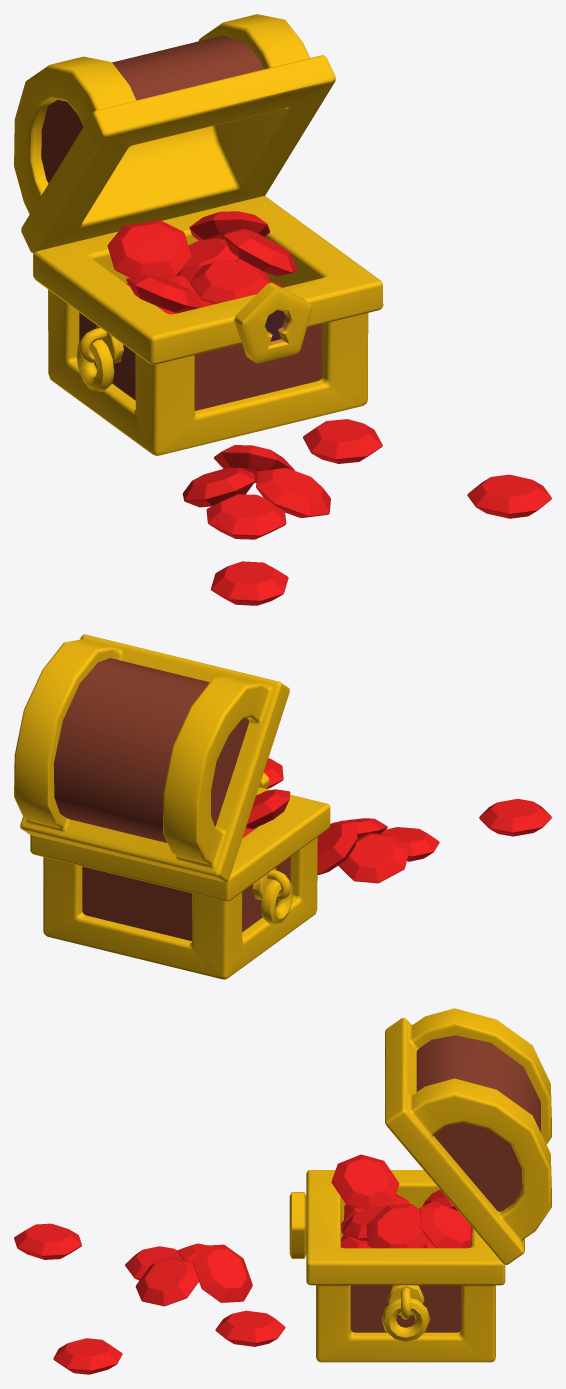
3 views of the same model, one above another, from view 1: azimuth 30°, elevation 25°; view 2: azimuth 150°, elevation 25°; view 3: azimuth 270°, elevation 25° (orthographic). The views are drawn at different scales.
Parts seen in each view (by area): view 1: model_0.113; view 2: model_0.113; view 3: model_0.113.
Boxes of the visible parts, x1,y1,x2,y2 form: model_0.113: [14, 14, 551, 605]; model_0.113: [14, 634, 551, 979]; model_0.113: [14, 1008, 551, 1374].
Size of the model in its own units: 5.62 by 4.96 by 8.92.
